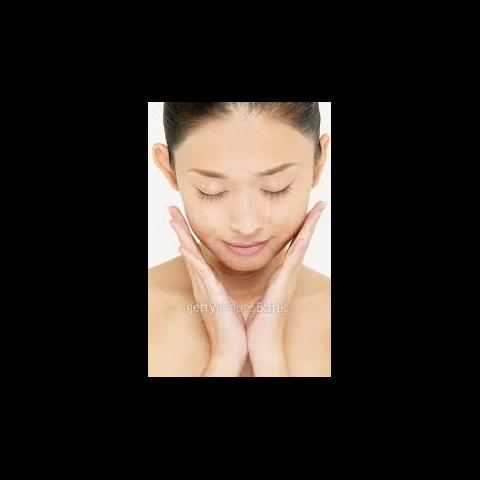closed: (184, 162, 304, 206)
